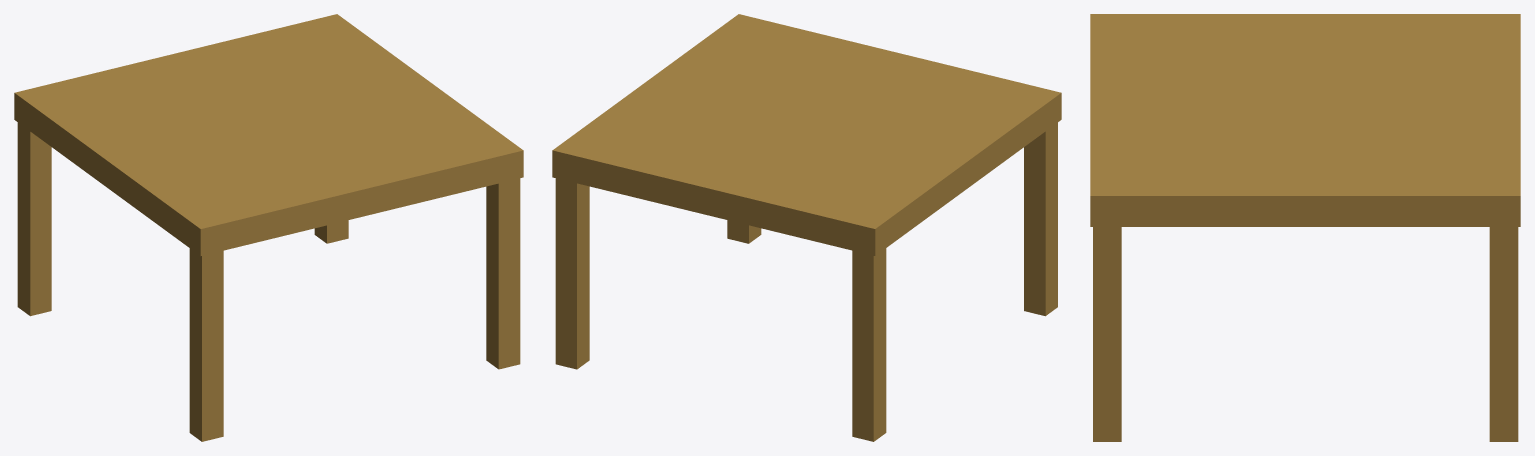
The model's file is table.fbx.
3 renders of one model, left to right at view 1: azimuth 30°, elevation 25°; view 2: azimuth 150°, elevation 25°; view 3: azimuth 270°, elevation 25°, orthographic. The views are drawn at different scales.
Visible parts, largest first — view 1: Table; view 2: Table; view 3: Table.
Boxes of the visible parts, x1=… form: Table: x1=14, y1=14, x2=523, y2=441; Table: x1=552, y1=14, x2=1061, y2=441; Table: x1=1090, y1=14, x2=1520, y2=441.
Bounding box in the file's own units: 233 × 148 × 233.
